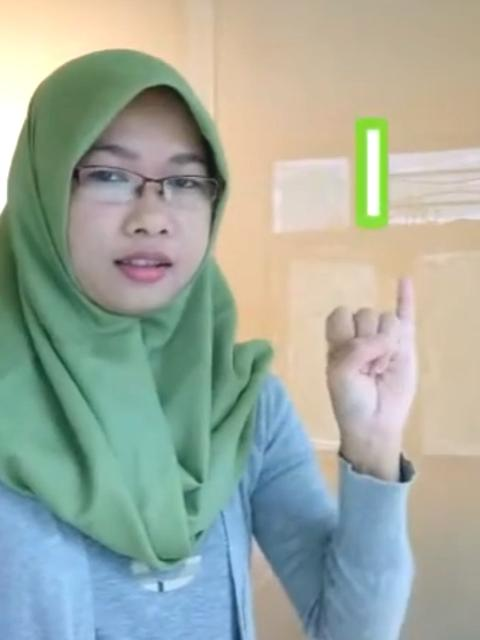I: (328, 276, 422, 428)
